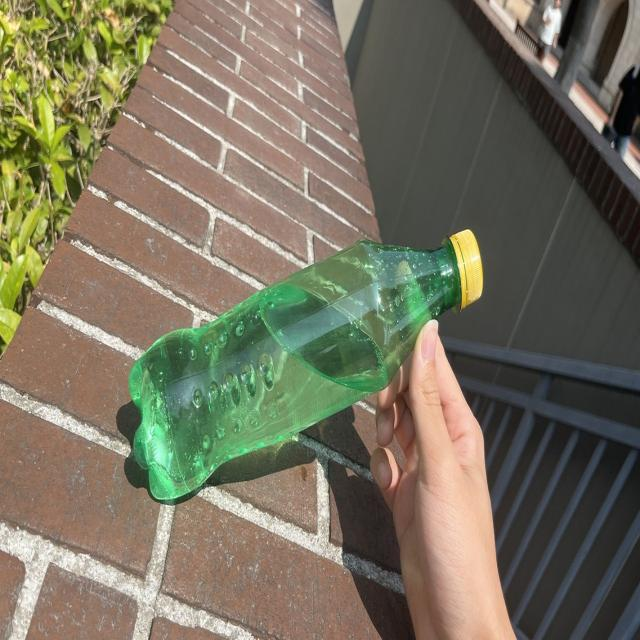medium: (129, 230, 482, 499)
